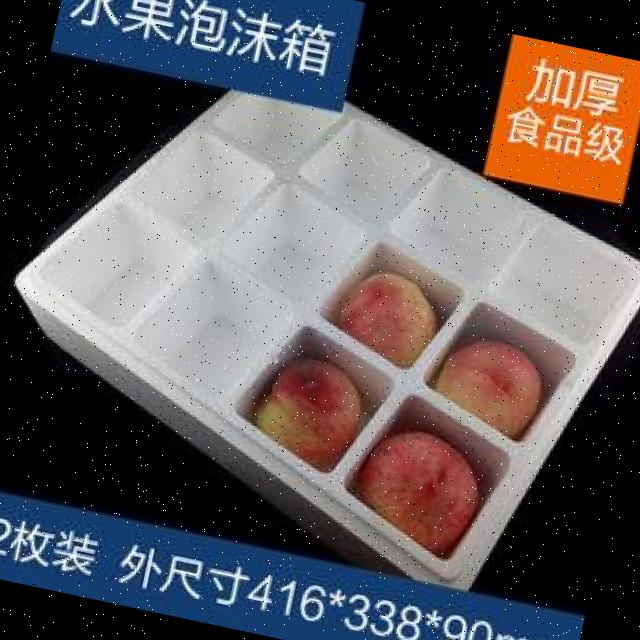styrofoam: (0, 37, 640, 615)
